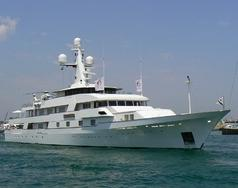yacht: (1, 36, 238, 149)
